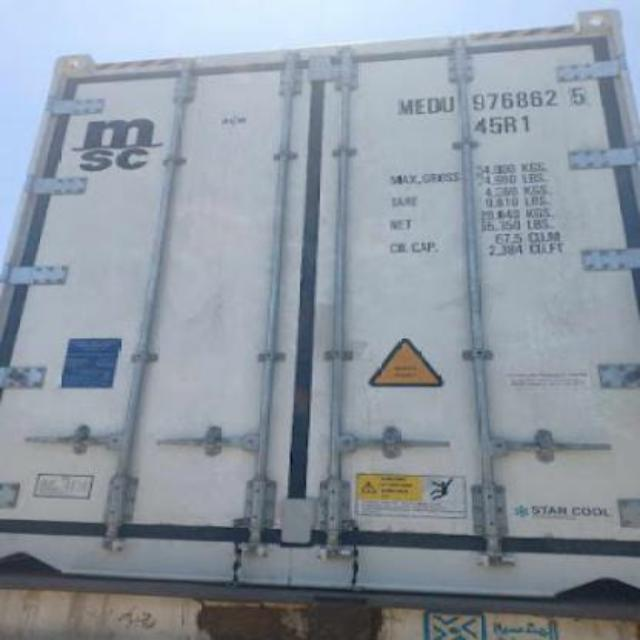2: (544, 89, 560, 105)
5: (570, 87, 584, 105)
6: (498, 92, 516, 110), (530, 90, 542, 106)
7: (486, 92, 498, 110)
8: (518, 92, 528, 108)
9: (470, 92, 486, 112)
D: (428, 97, 442, 113)
E: (414, 97, 426, 115)
M: (398, 97, 414, 115)
U: (440, 96, 456, 114)
